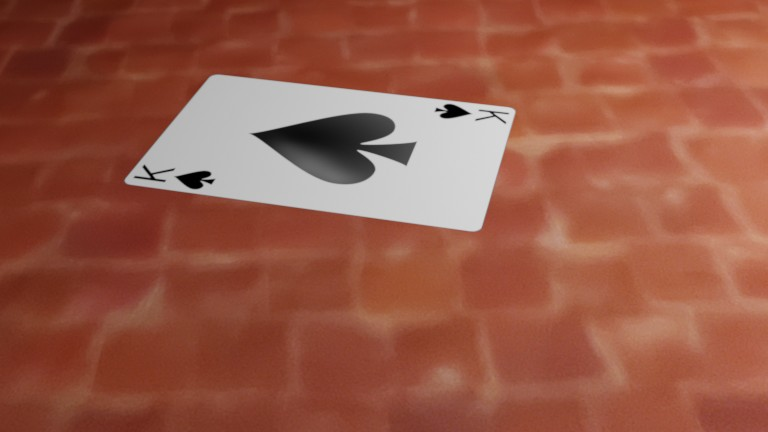king_of_spades: (128, 160, 223, 194), (429, 101, 510, 129)
